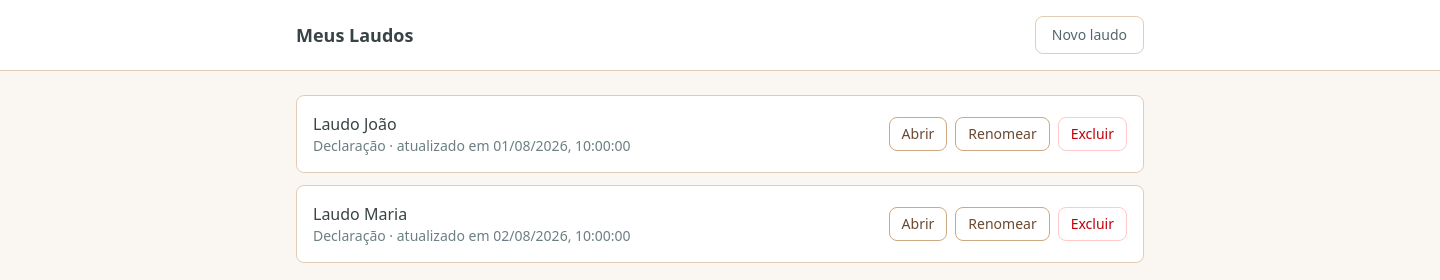
MeusLaudosPage › deletes a saved document after confirmation
Check: the text "Laudo João" is shown, box 313,113 -> 397,135
Click the button "Excluir" in the row of "Laudo João": [1092, 134] box 1058,117 -> 1127,151
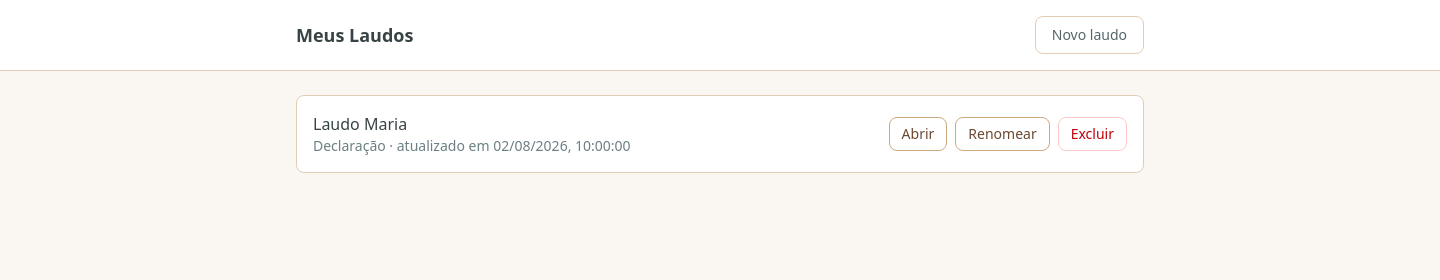
Check: the text "Laudo Maria" is shown, box 313,113 -> 407,135
Check: the text "Laudo João" is gone
